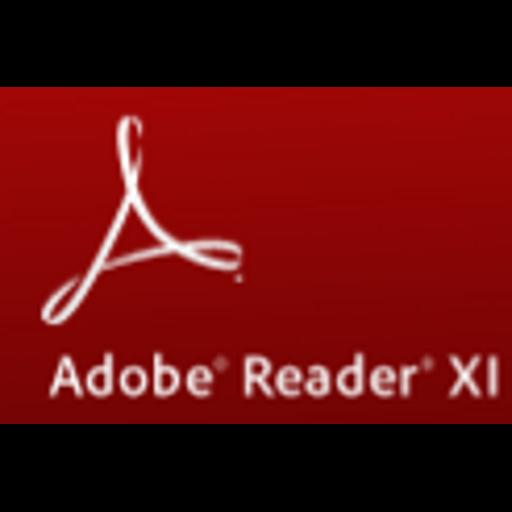Adobe: (0, 87, 512, 424)
